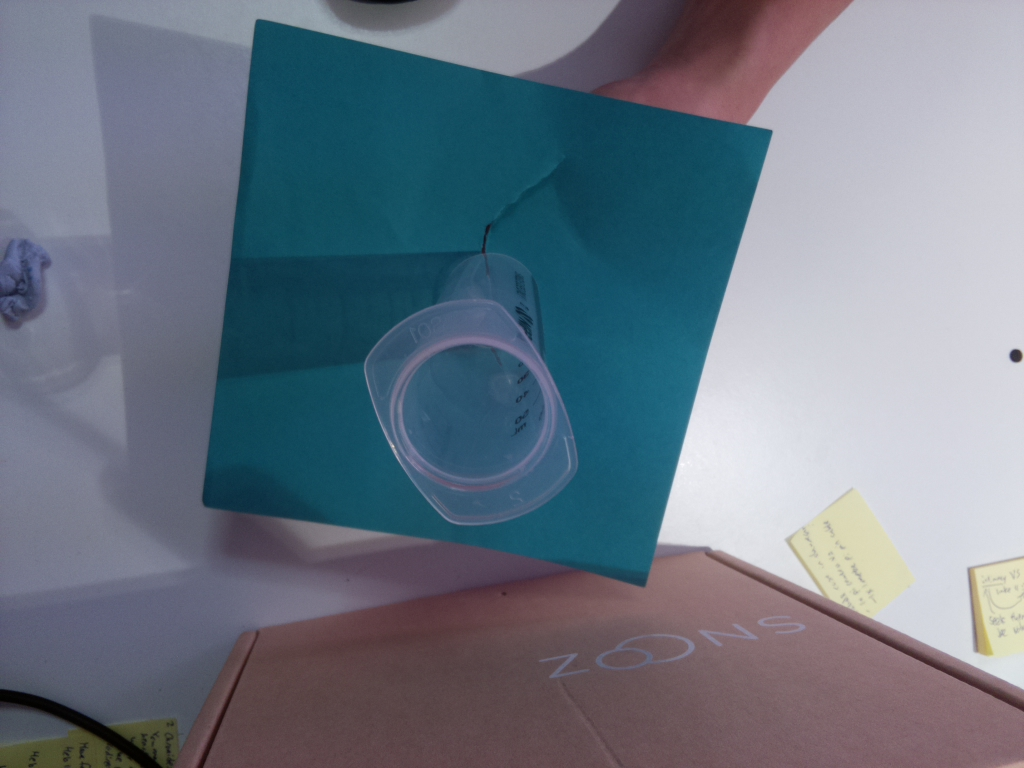clean: (361, 292, 581, 529)
